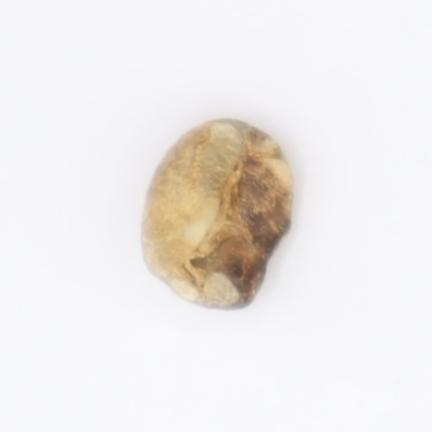partial-black: (142, 119, 292, 308)
